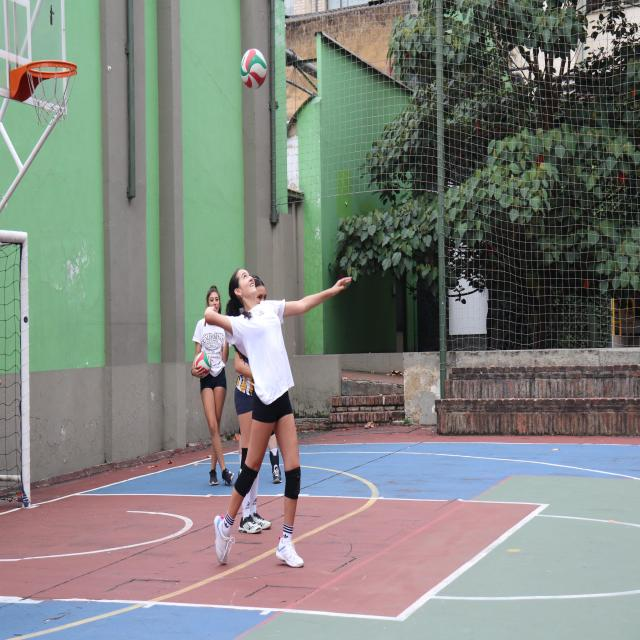volleyball: (240, 49, 268, 90), (195, 352, 211, 377)
